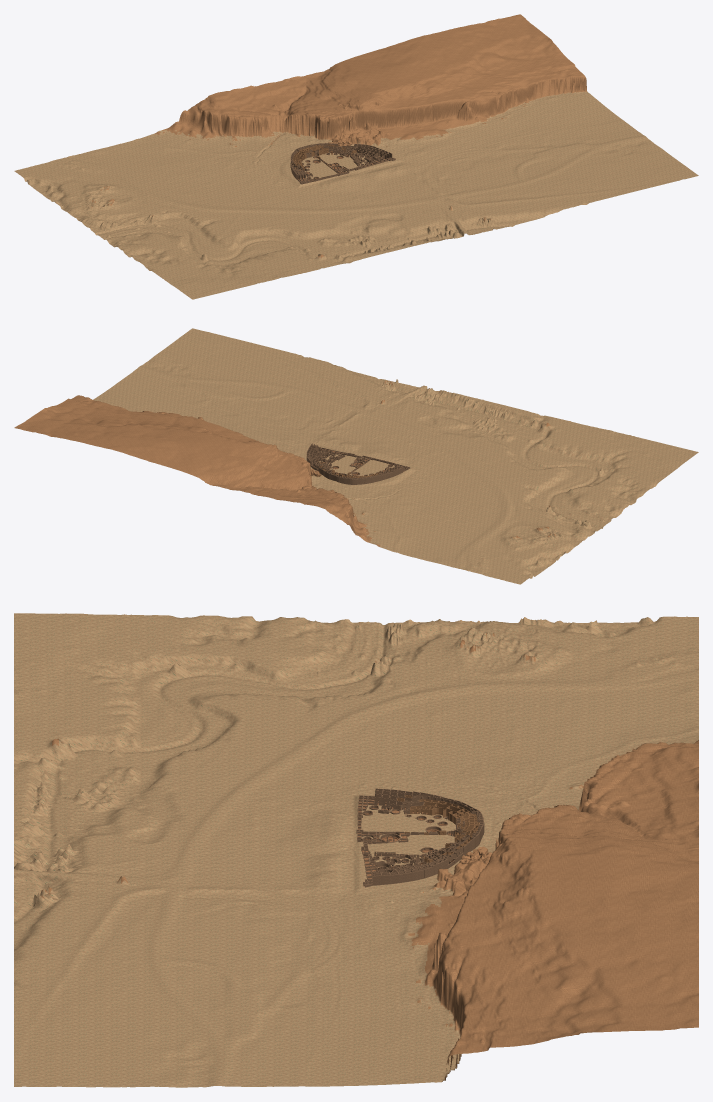
The model's file is chaco_canyon.glb.
3 renders of one model, top to bottom at view 1: azimuth 30°, elevation 25°; view 2: azimuth 150°, elevation 25°; view 3: azimuth 270°, elevation 25°, orthographic. The views are drawn at different scales.
Visible parts, largest first — view 1: Chaco_Canyon_Terrain, PB_Phase2_NorthArc_4Story, PB_Phase3_EastWing, PB_Phase1_OldBonito; view 2: Chaco_Canyon_Terrain, PB_Phase2_NorthArc_4Story; view 3: Chaco_Canyon_Terrain, PB_Phase2_NorthArc_4Story, PB_Phase1_OldBonito, PB_Phase3_EastWing, PB_Phase4_SouthWall_Meridian, PB_Phase3_WestWing, PB_Kiva_Masonry_Walls.
Part boxes in pixels (box(x1,y1,x2,y2)): Chaco_Canyon_Terrain: box(14, 14, 698, 299); PB_Phase2_NorthArc_4Story: box(290, 143, 395, 179); PB_Phase3_EastWing: box(334, 145, 391, 166); PB_Phase1_OldBonito: box(292, 141, 356, 170); Chaco_Canyon_Terrain: box(14, 328, 698, 584); PB_Phase2_NorthArc_4Story: box(306, 444, 402, 484); Chaco_Canyon_Terrain: box(14, 613, 698, 1087); PB_Phase2_NorthArc_4Story: box(365, 789, 484, 887); PB_Phase1_OldBonito: box(397, 795, 479, 862); PB_Phase3_EastWing: box(372, 846, 464, 884); PB_Phase4_SouthWall_Meridian: box(356, 795, 437, 886); PB_Phase3_WestWing: box(374, 788, 460, 843); PB_Kiva_Masonry_Walls: box(362, 805, 453, 869).
Size of the model in its own units: 860 by 64.37 by 525.
6 materials, 6 textured.
